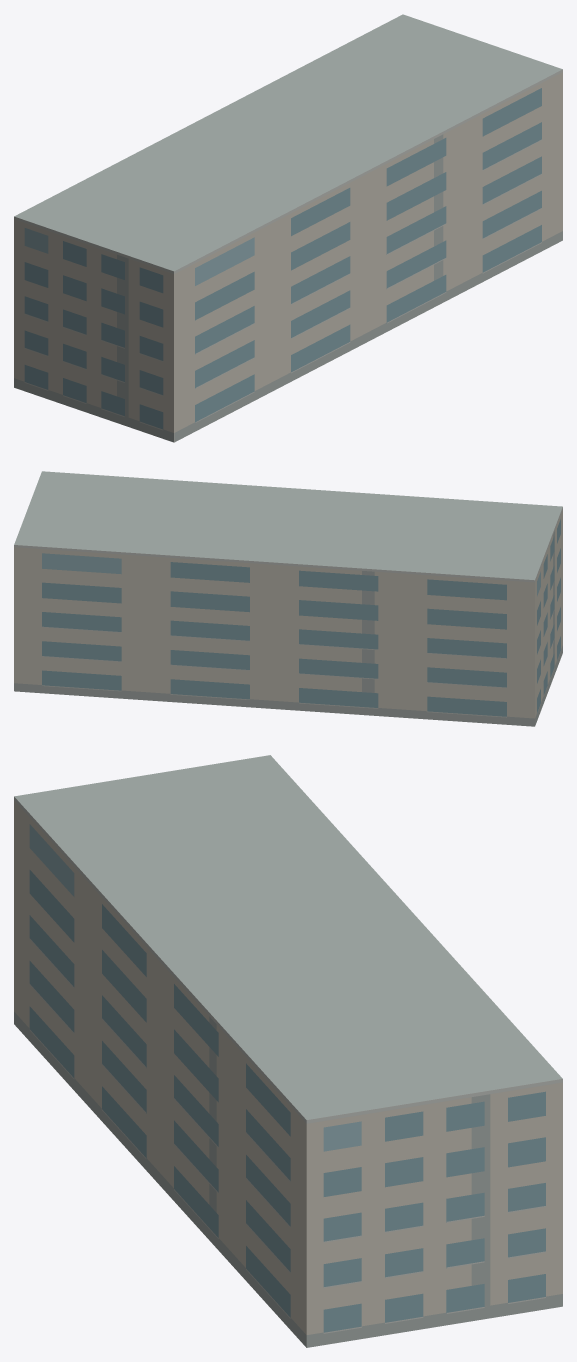
File: residential-01926145-3af3-4129-983b-7b242e894cf1.glb
The picture shows the model from 3 angles, top to bottom: view 1: azimuth 30°, elevation 25°; view 2: azimuth 150°, elevation 25°; view 3: azimuth 270°, elevation 25°; orthographic projection. The views are drawn at different scales.
Visible parts, largest first — view 1: residential-01926145-3af3-4129-983b-7b242e894cf1.tmp; view 2: residential-01926145-3af3-4129-983b-7b242e894cf1.tmp; view 3: residential-01926145-3af3-4129-983b-7b242e894cf1.tmp.
Part boxes in pixels (x1,y1,x2,y2): residential-01926145-3af3-4129-983b-7b242e894cf1.tmp: (14, 14, 562, 442); residential-01926145-3af3-4129-983b-7b242e894cf1.tmp: (14, 471, 562, 726); residential-01926145-3af3-4129-983b-7b242e894cf1.tmp: (14, 755, 562, 1347).
Bounding box in the file's own units: 52.45 × 15.25 × 33.32.
